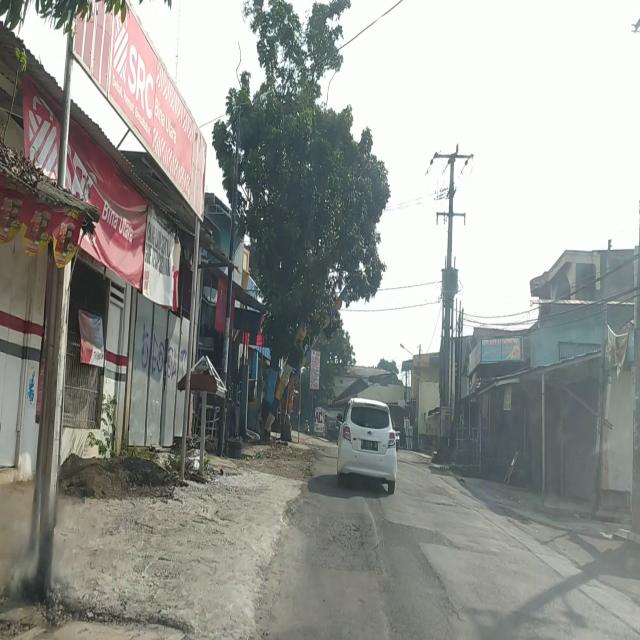Drain Hole: (329, 524, 372, 572)
